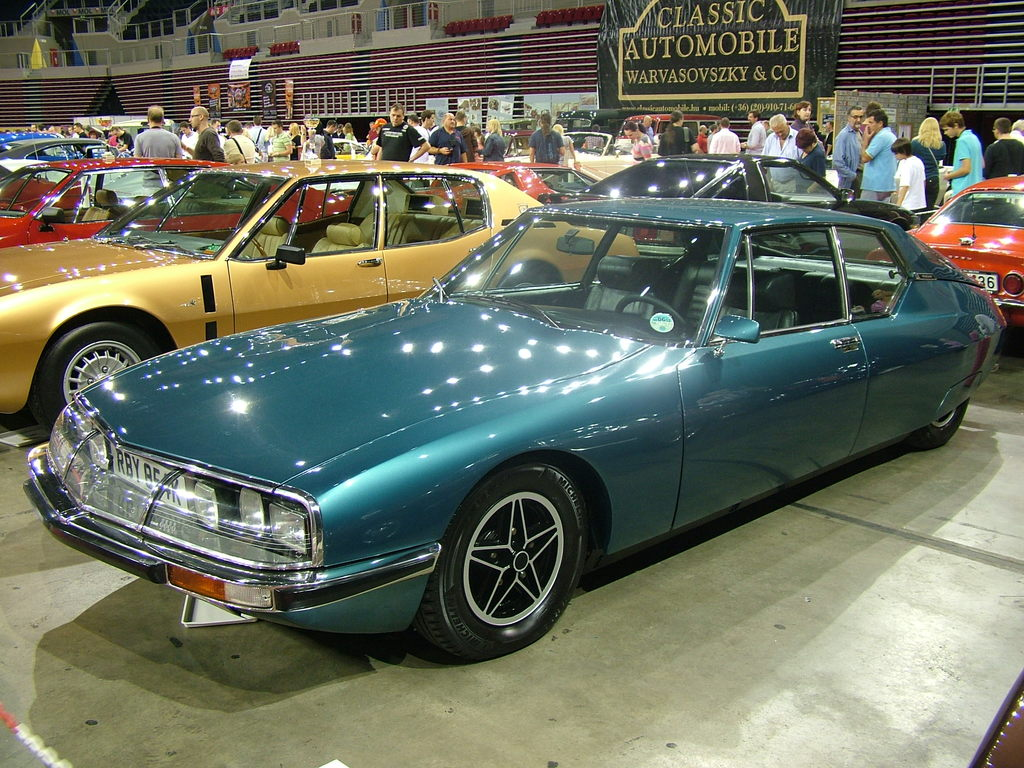Car: (44, 192, 1006, 672), (0, 160, 639, 428), (0, 163, 376, 254), (572, 152, 913, 231), (912, 168, 1023, 337), (0, 131, 115, 159)
